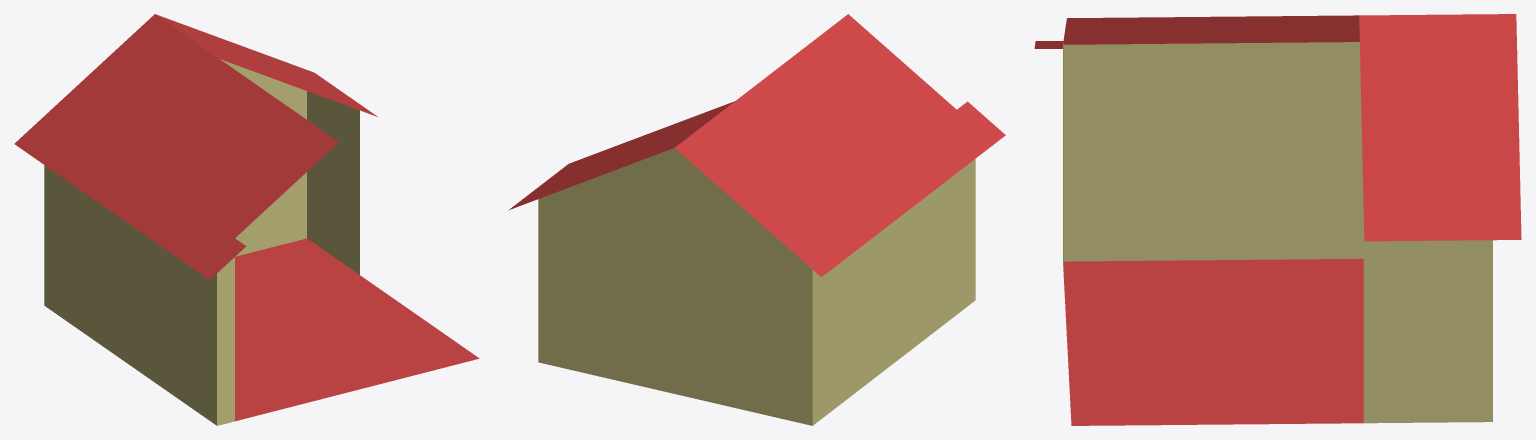
3 views of the same model, side by side, from view 1: azimuth 30°, elevation 25°; view 2: azimuth 150°, elevation 25°; view 3: azimuth 270°, elevation 25° (orthographic). The views are drawn at different scales.
Bounding box in the file's own units: 12.06 × 13.1 × 9.49.
